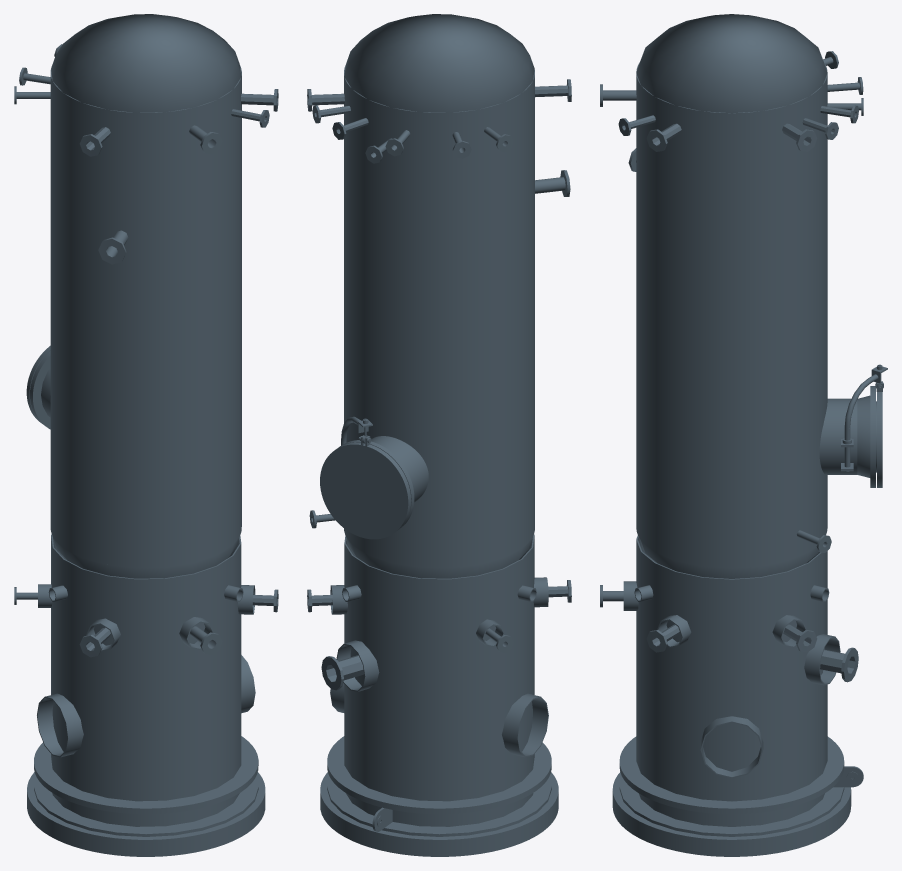
The model's file is Zone_P2_Eqp_Process_23.fbx.
The picture shows the model from 3 angles, left to right: view 1: azimuth 30°, elevation 25°; view 2: azimuth 150°, elevation 25°; view 3: azimuth 270°, elevation 25°; orthographic projection.
Visible parts, largest first — view 1: EQP_Process_023; view 2: EQP_Process_023; view 3: EQP_Process_023.
Boxes of the visible parts, left/top/right/bottom form: EQP_Process_023: left=14, top=14, right=278, bottom=856; EQP_Process_023: left=307, top=14, right=571, bottom=856; EQP_Process_023: left=600, top=14, right=887, bottom=856.
Size of the model in its own units: 190 by 683 by 229.
